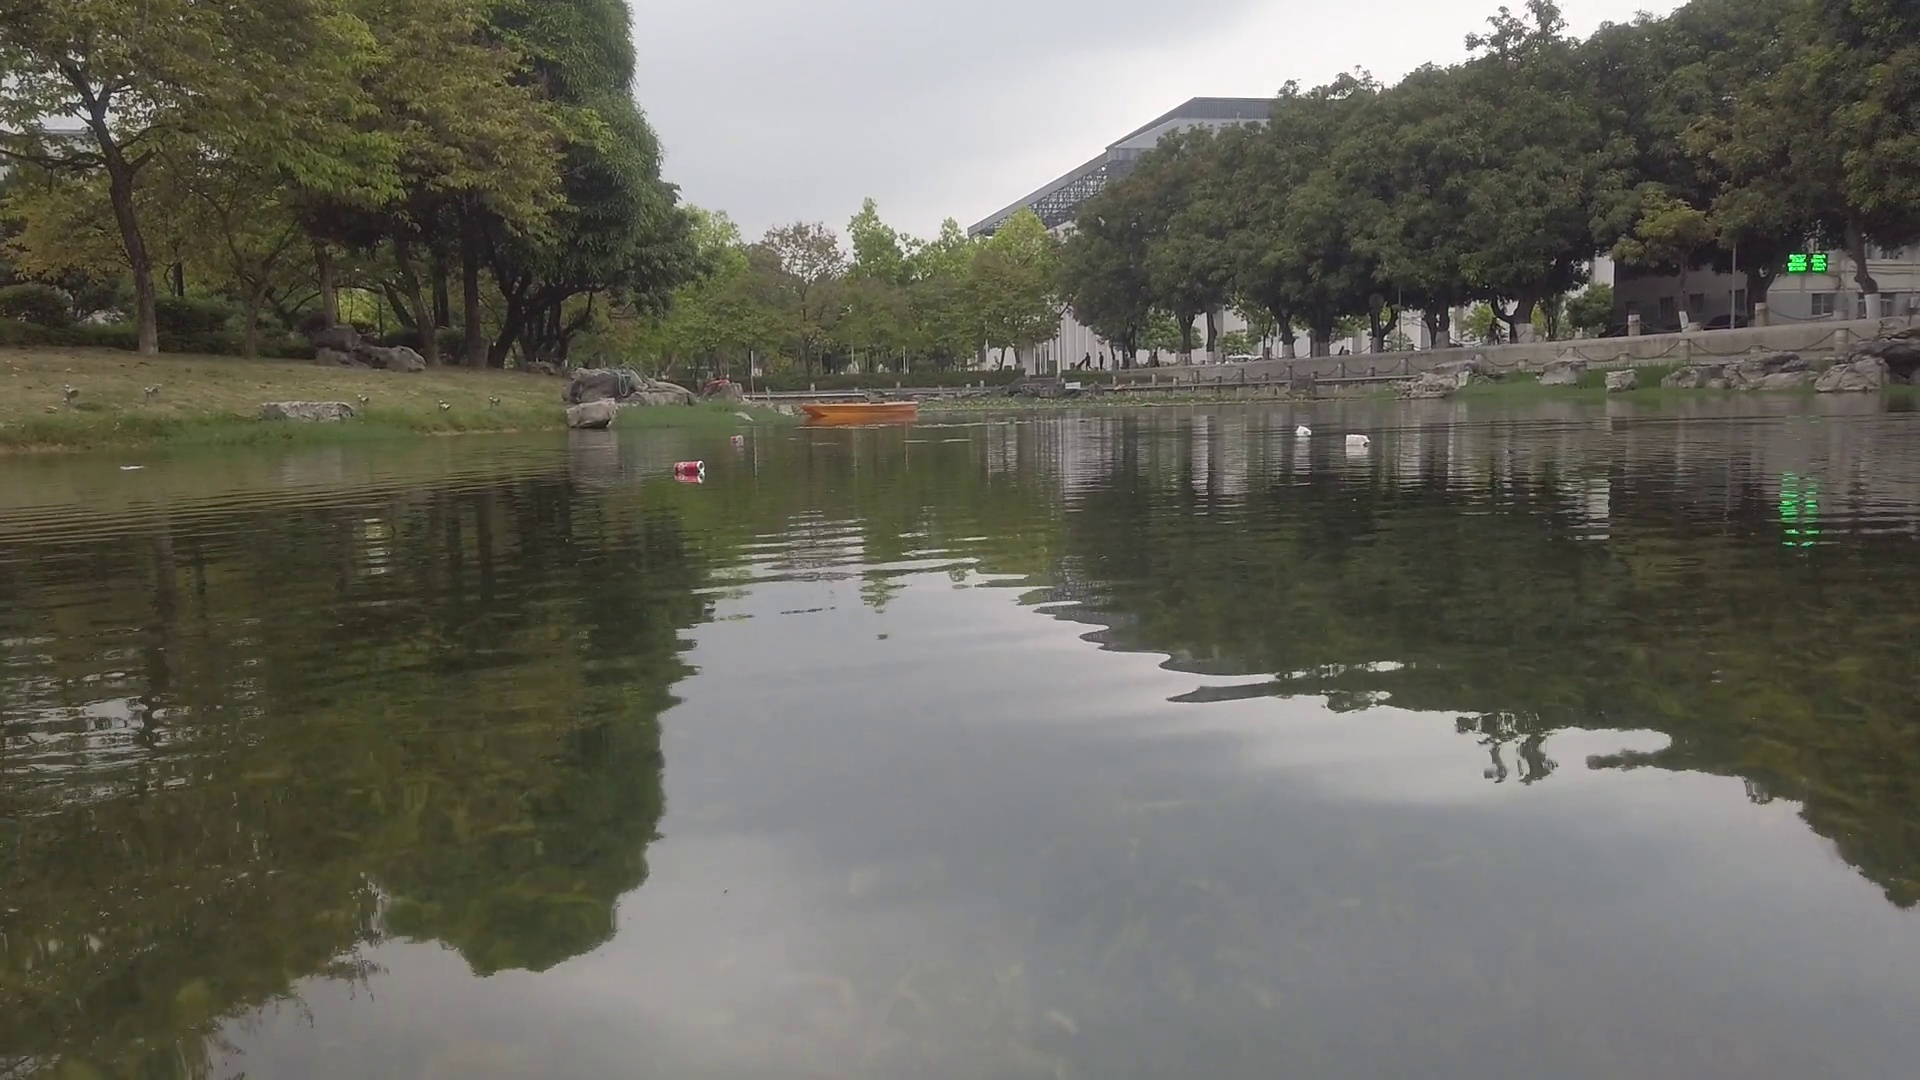bottle: (675, 462, 705, 471), (729, 435, 742, 443)
carton: (1345, 434, 1371, 447), (1296, 425, 1309, 436)
paper: (119, 459, 145, 473)
